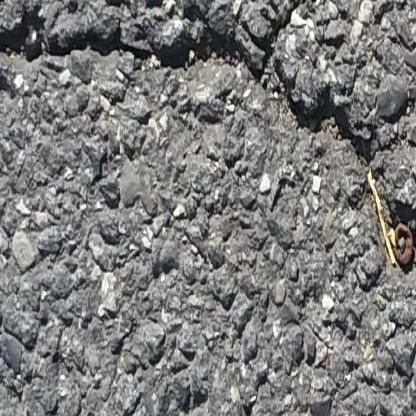Cracks: (0, 2, 416, 283)
